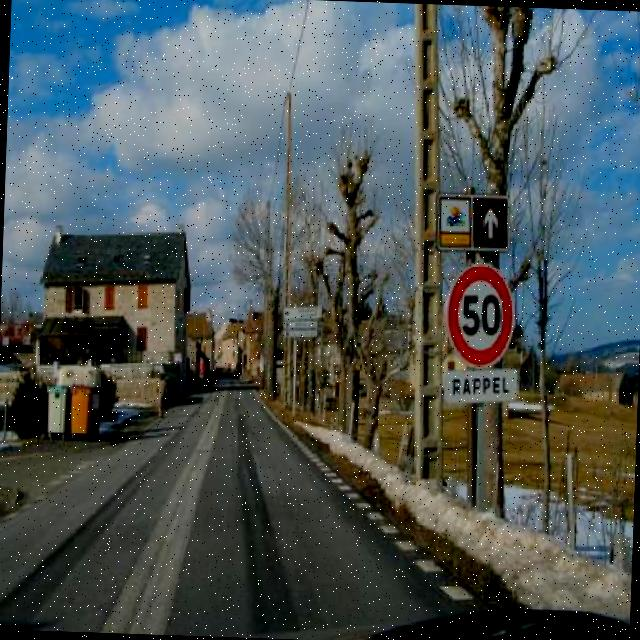Ograniczenie predkosci do 50: (444, 258, 519, 369)
